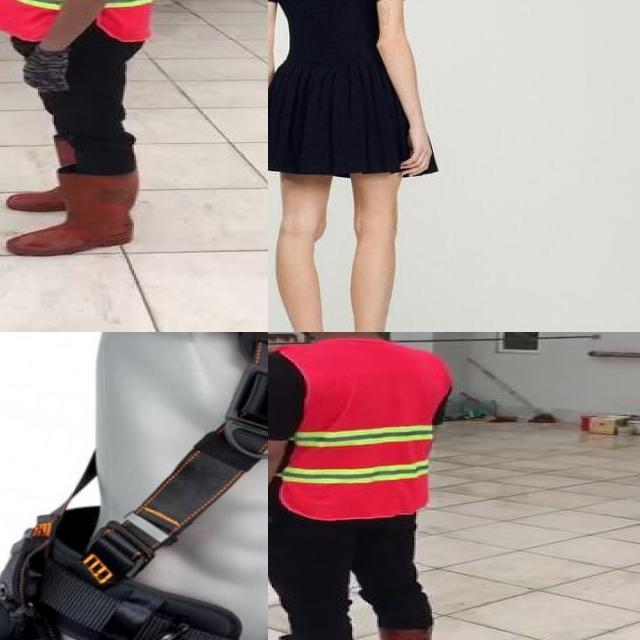Harness: (0, 332, 268, 640)
boots: (3, 172, 137, 256)
hand_glove: (16, 45, 76, 92)
hand_noglove: (400, 89, 435, 202)
person: (268, 332, 459, 640), (268, 0, 442, 332), (0, 0, 173, 265)
vest: (274, 340, 453, 518), (0, 0, 164, 42)
